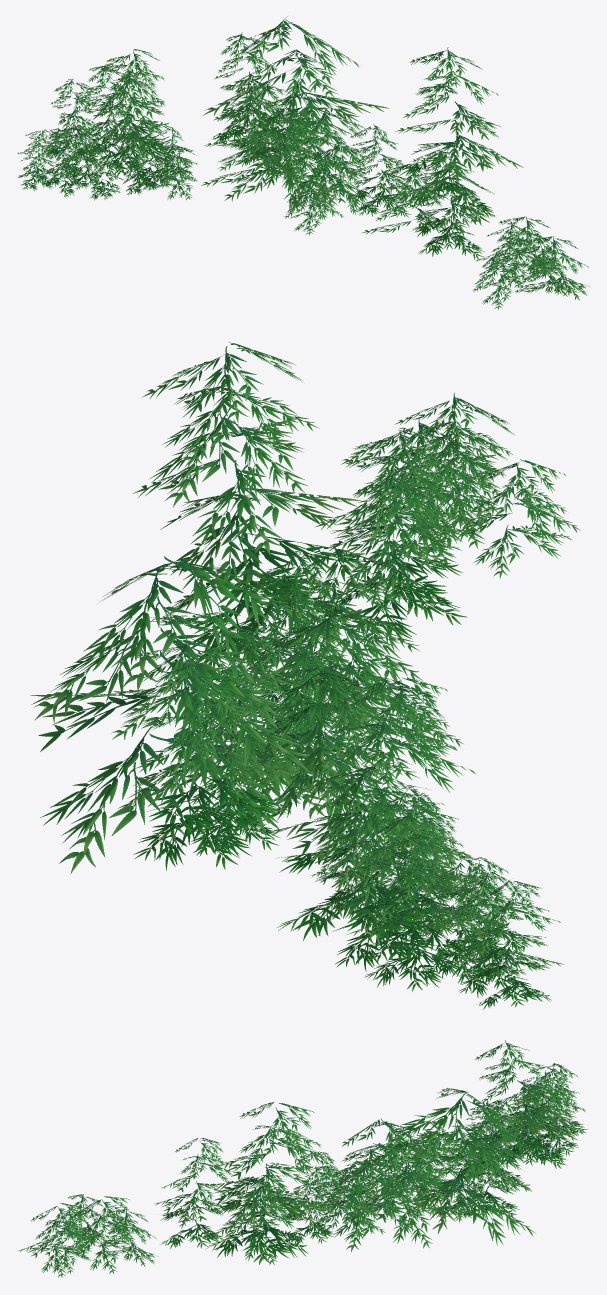
The model's file is Area_12_36.fbx.
3 renders of one model, top to bottom at view 1: azimuth 30°, elevation 25°; view 2: azimuth 150°, elevation 25°; view 3: azimuth 270°, elevation 25°, orthographic. The views are drawn at different scales.
Parts seen in each view (by area): view 1: Area_12_36; view 2: Area_12_36; view 3: Area_12_36.
Part boxes in pixels (<box>): Area_12_36: <box>17,16,589,309</box>; Area_12_36: <box>30,341,580,1009</box>; Area_12_36: <box>18,1040,587,1277</box>.
Bounding box in the file's own units: 4036 × 1937 × 5840.
